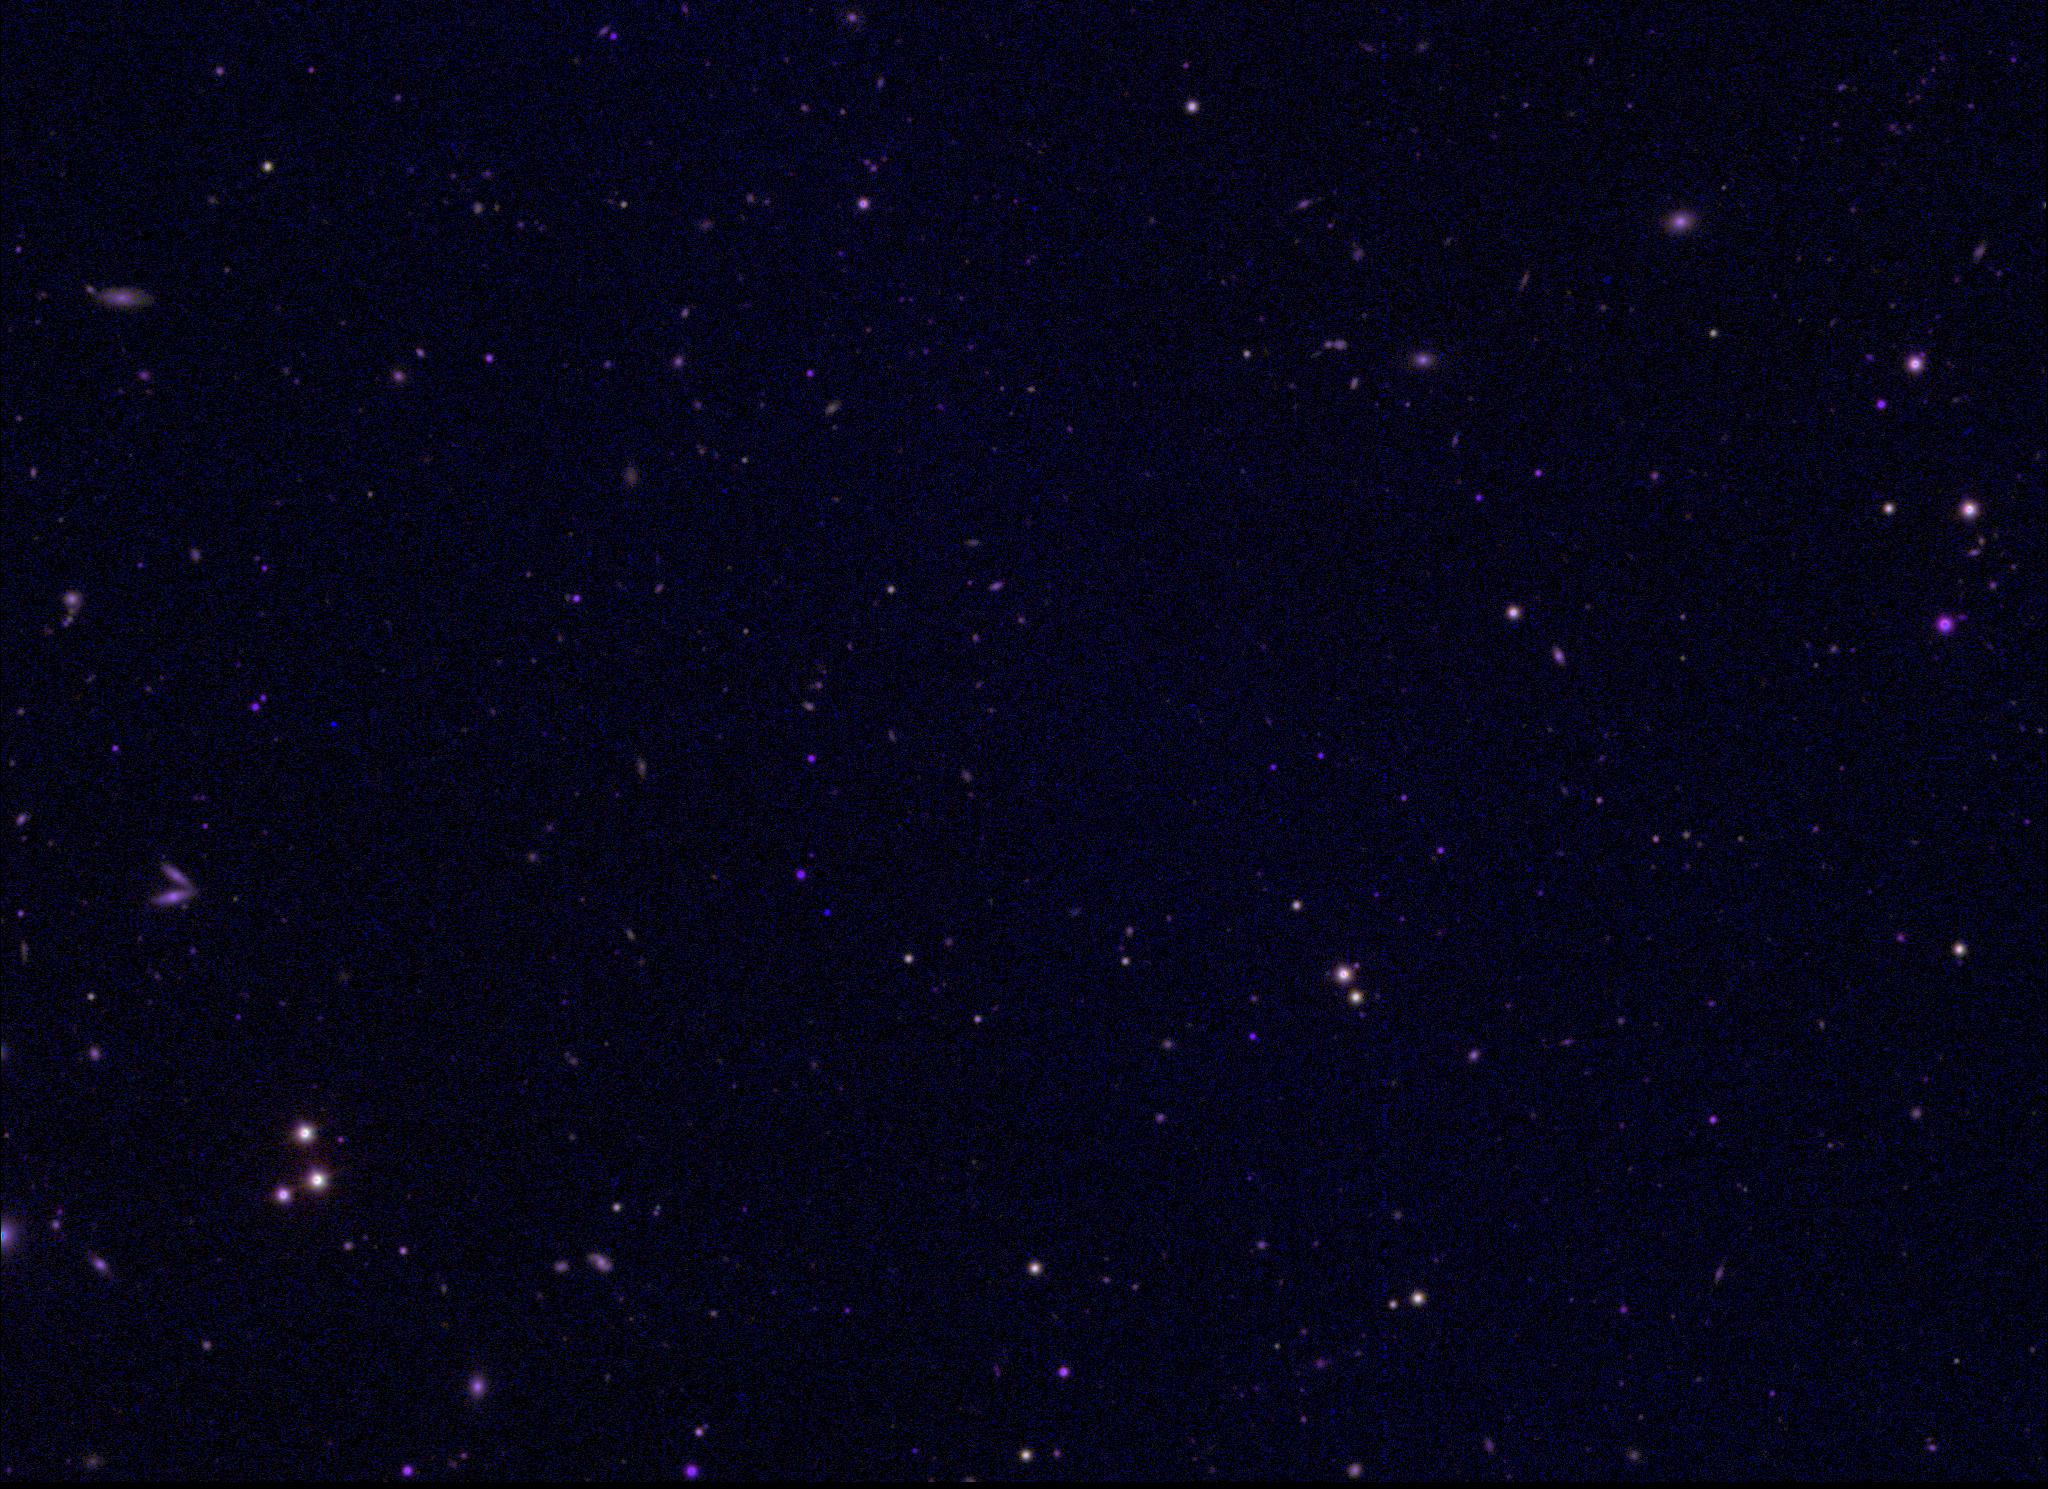L: (819, 904, 833, 918)
